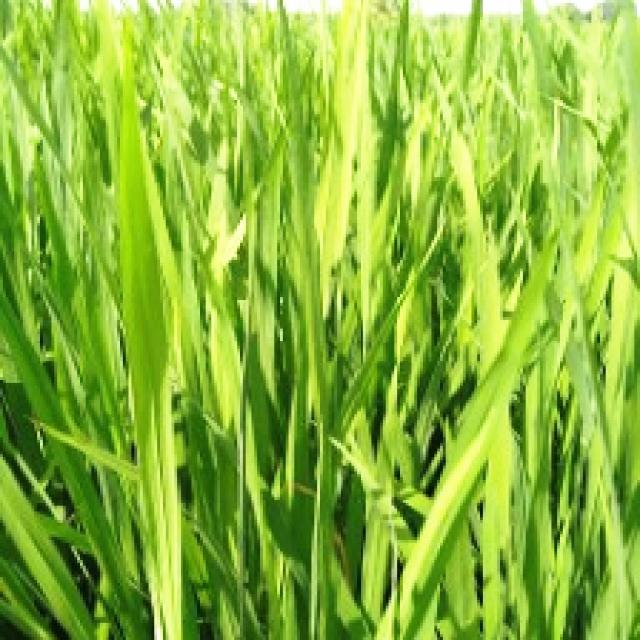health: (91, 92, 436, 498)
